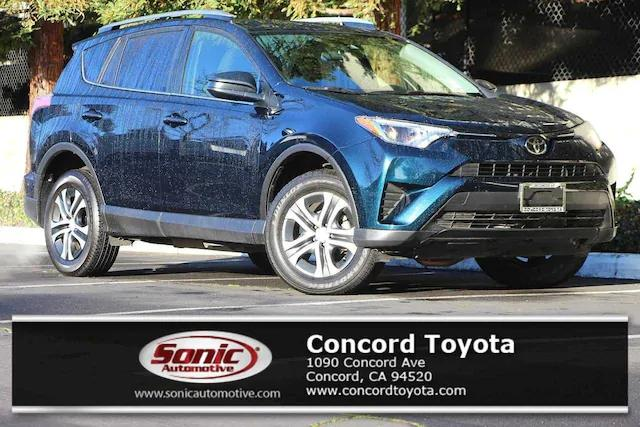Toyota RAV-4: (23, 16, 619, 295)
